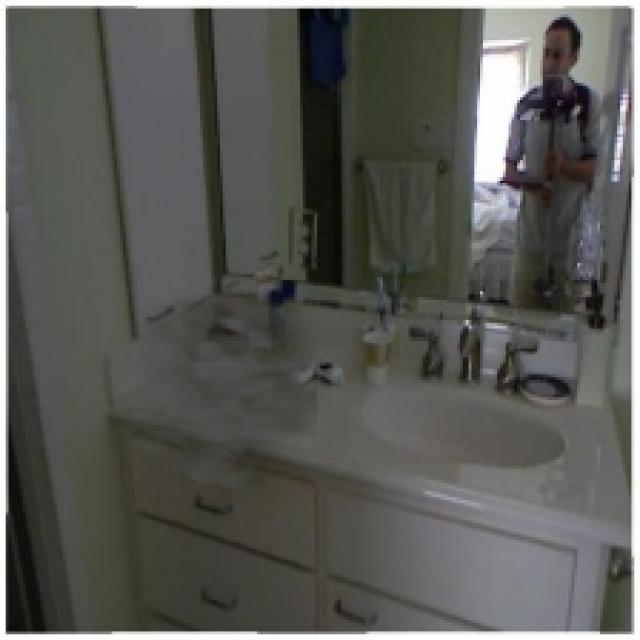Smoke: (105, 283, 318, 488)
